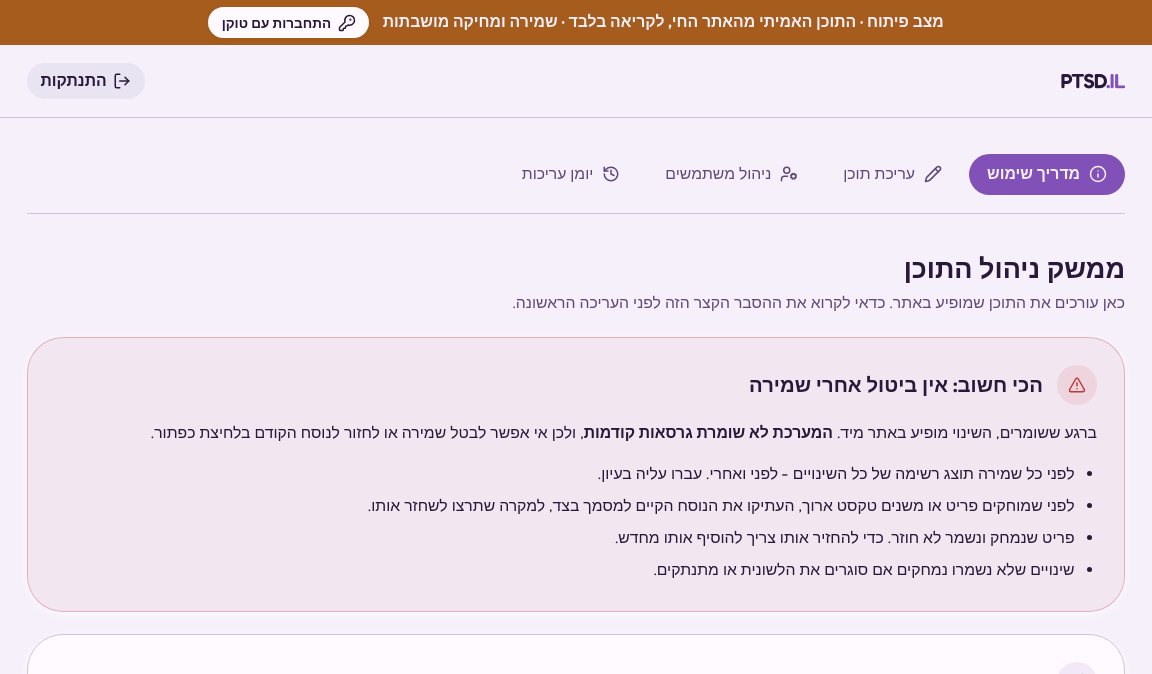
Scenario: admin: edits are staged, then saved together › a staged change can be discarded before saving
Click the button "עריכת תוכן".
click(893, 174)  # box [825, 154, 960, 194]
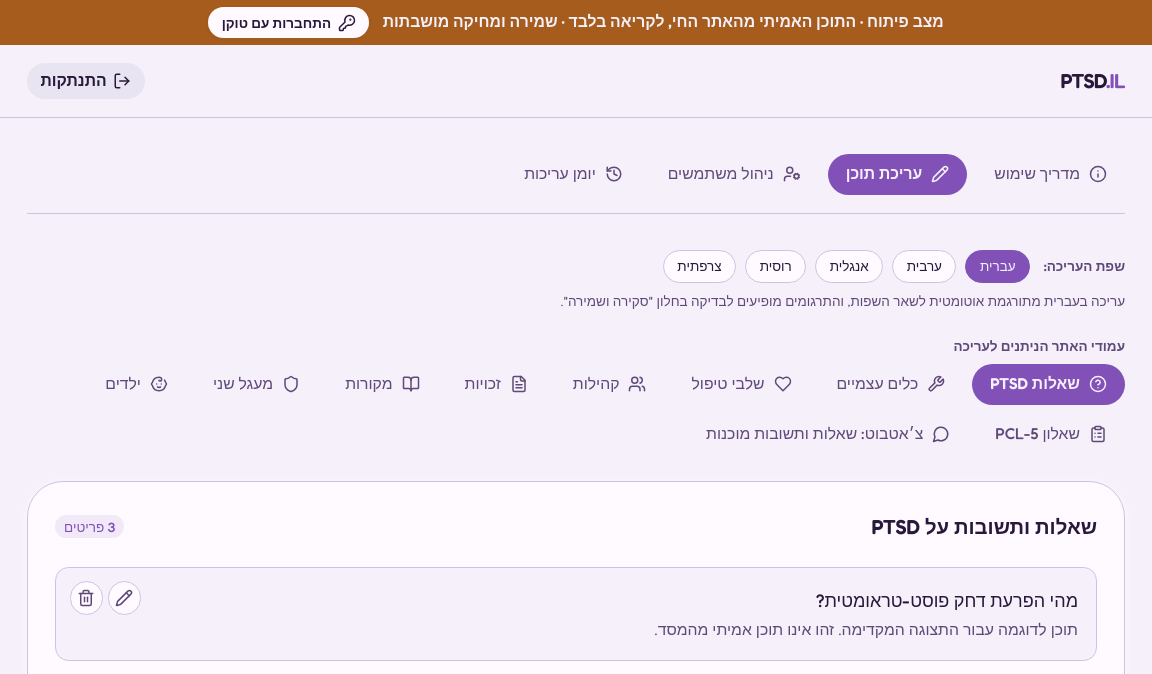
Expected: the text "מהי הפרעת דחק פוסט-טראומטית?" is shown, [816, 589, 1078, 611]
Click the button titled "עריכה" in the row of "מהי הפרעת דחק פוסט-טראומטית?".
click(124, 598)  # box [108, 581, 141, 615]
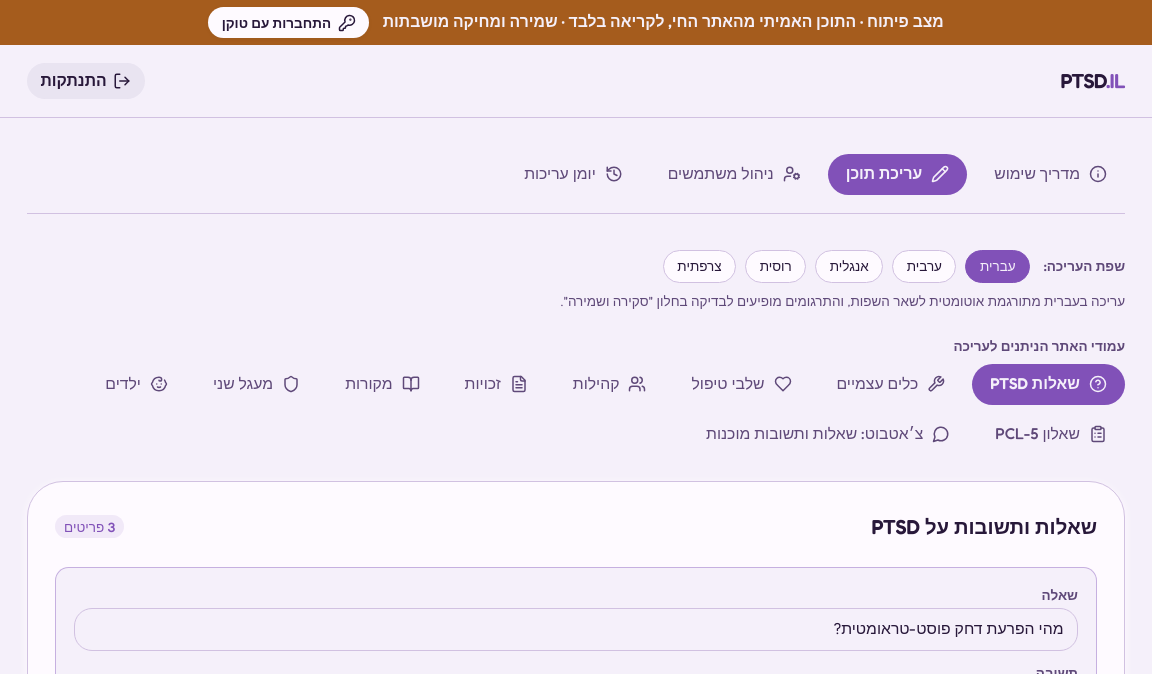
Replace the text in the field showing "מהי הפרעת דחק פוסט-טראומטית?" with "שאלה ערוכה" at (576, 630), box [74, 608, 1078, 651]
(page scrolled)
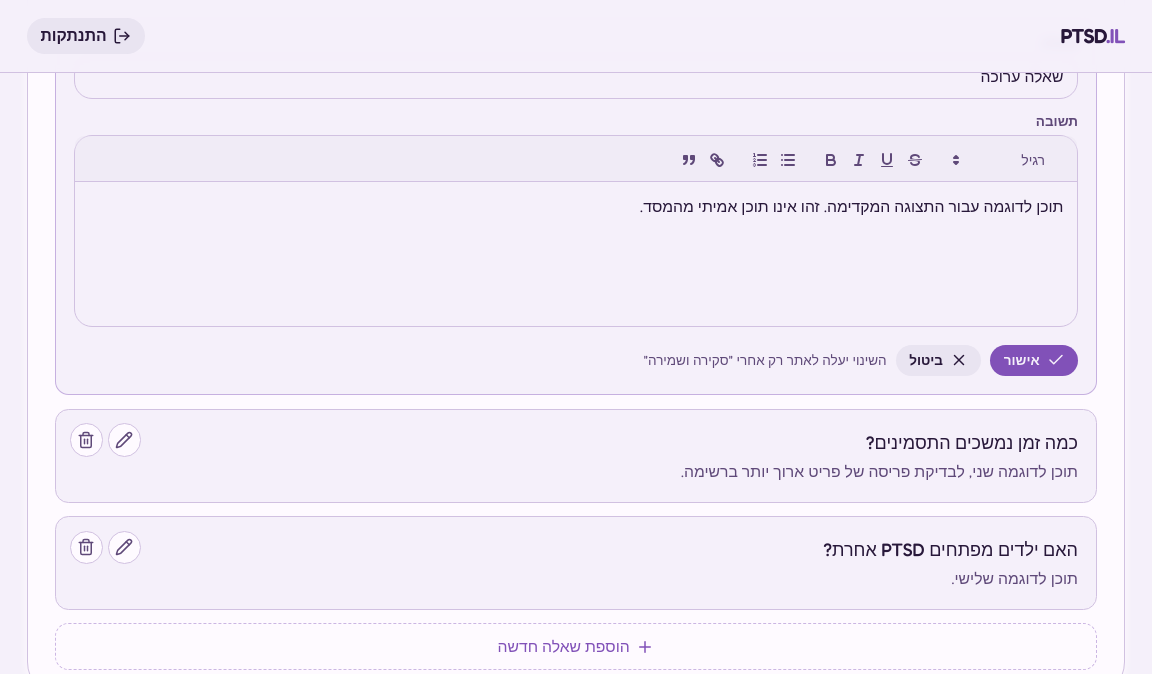
Click the button "אישור".
click(1034, 360)  # box [990, 345, 1078, 376]
(page scrolled)
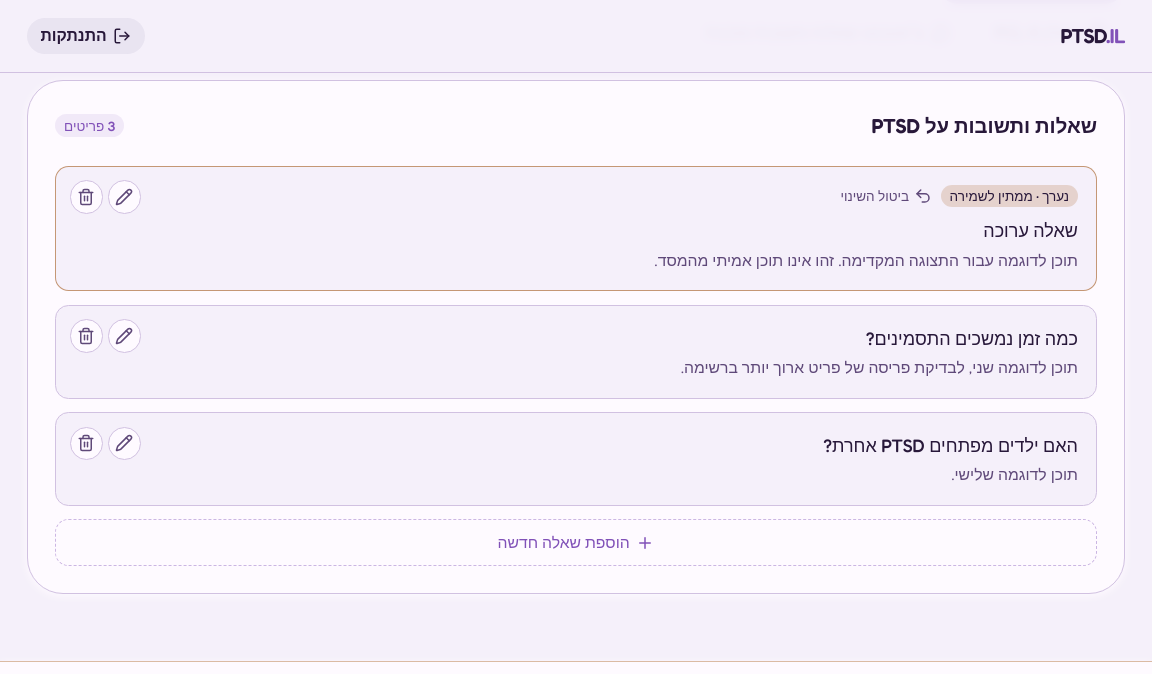
Expected: the text "שאלה ערוכה" is shown, [983, 219, 1078, 241]
Click the button "ביטול השינוי".
click(886, 196)  # box [840, 187, 932, 205]
(page scrolled)
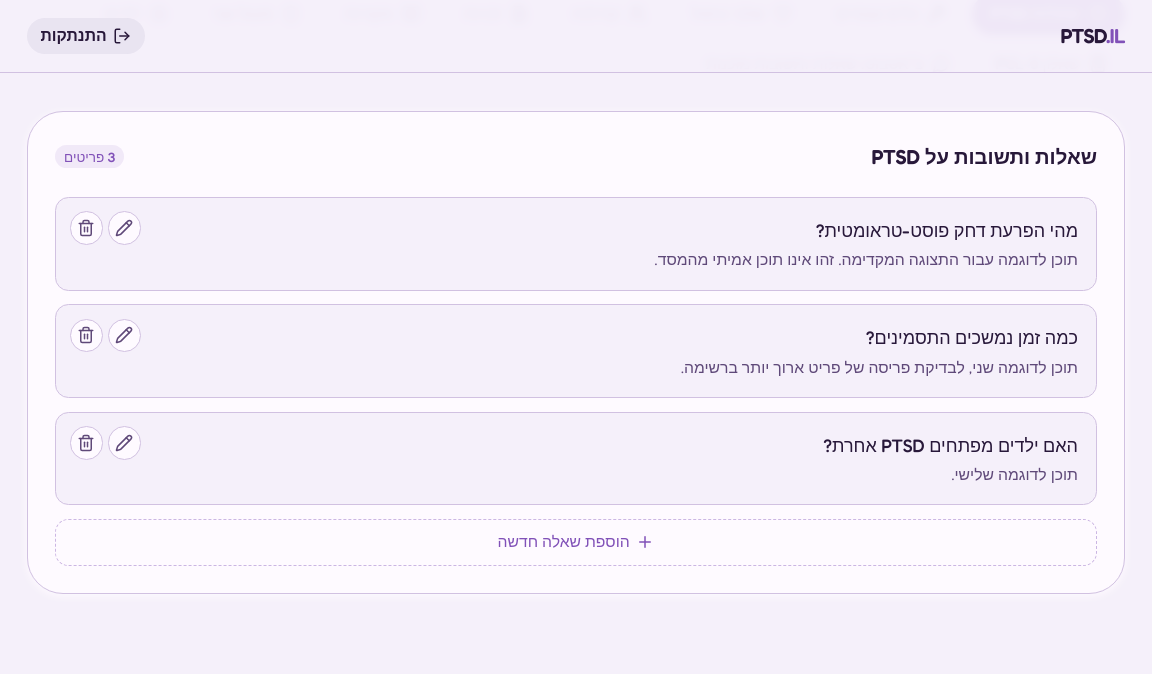
Expected: the text "מהי הפרעת דחק פוסט-טראומטית?" is shown, [816, 219, 1078, 241]
Expected: the text "שאלה ערוכה" is gone
Expected: the text "ממתין לשמירה" is gone
